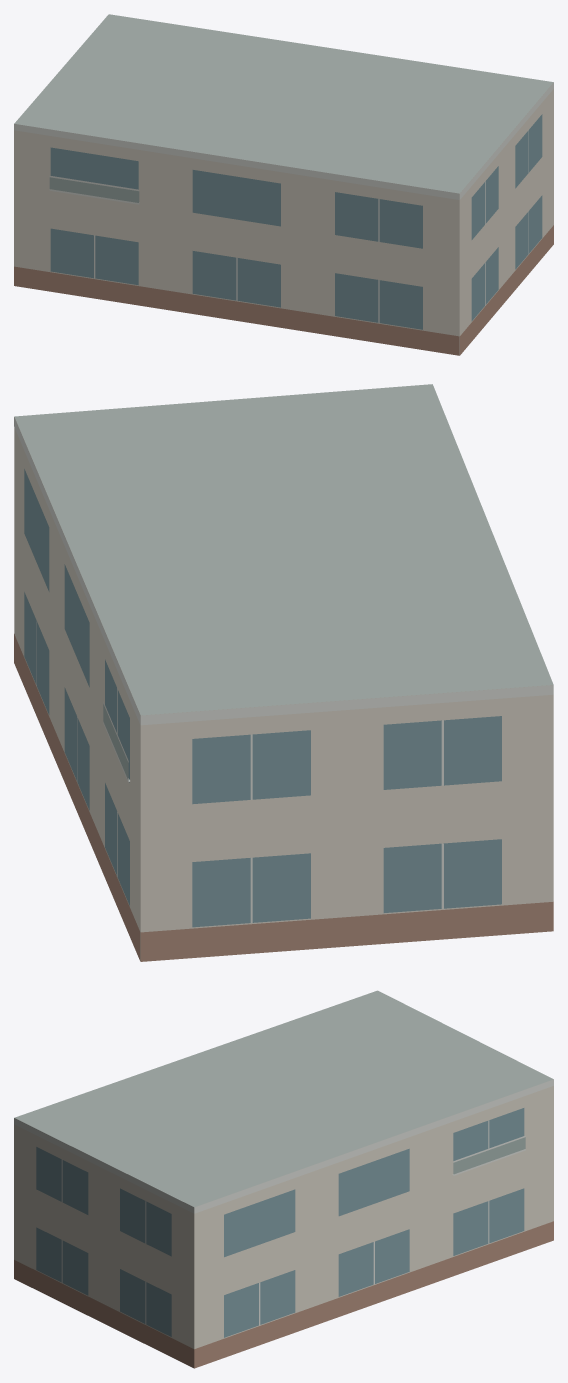
Rendered from survey-upis-32928332.glb.
The picture shows the model from 3 angles, top to bottom: view 1: azimuth 30°, elevation 25°; view 2: azimuth 150°, elevation 25°; view 3: azimuth 270°, elevation 25°; orthographic projection. The views are drawn at different scales.
Parts seen in each view (by area): view 1: survey-upis-32928332.tmp; view 2: survey-upis-32928332.tmp; view 3: survey-upis-32928332.tmp.
Part boxes in pixels (<box>): survey-upis-32928332.tmp: <box>14,14,553,355</box>; survey-upis-32928332.tmp: <box>14,384,553,961</box>; survey-upis-32928332.tmp: <box>14,990,553,1368</box>.
Bounding box in the file's own units: 17.62 × 6.1 × 18.53.
